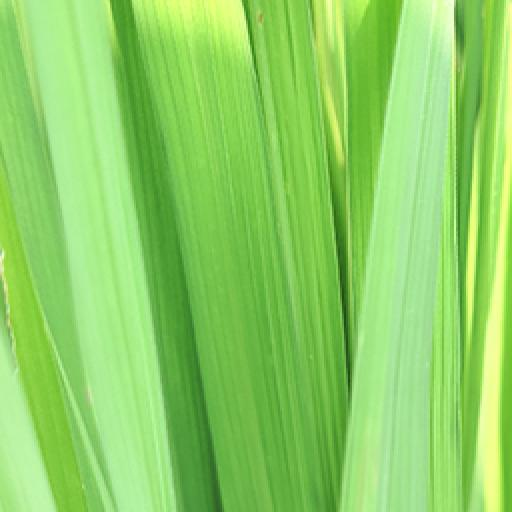Healthy Leaf: (6, 6, 468, 506)
